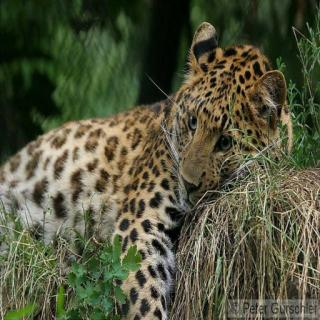Leopard: (1, 29, 320, 320)
